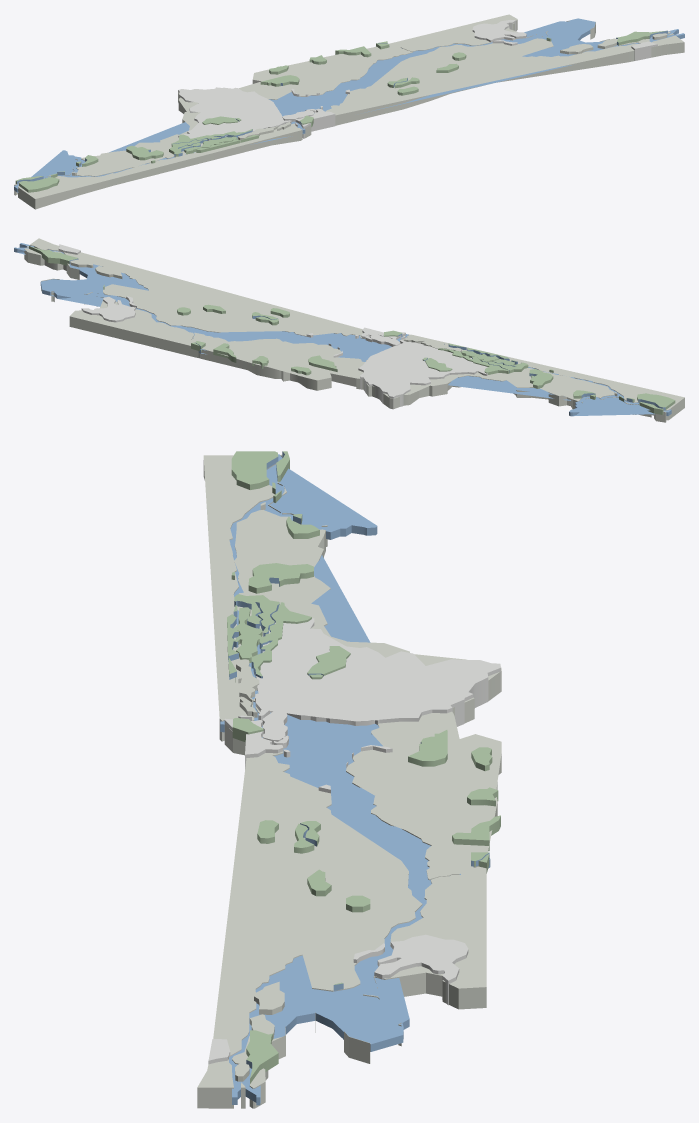
The model's file is lagos map.fbx.
3 renders of one model, top to bottom at view 1: azimuth 30°, elevation 25°; view 2: azimuth 150°, elevation 25°; view 3: azimuth 270°, elevation 25°, orthographic. The views are drawn at different scales.
Parts seen in each view (by area): view 1: mainMesh3, waterMesh2, forestgroup1_polySurface12, islandsgroup1_polySurface1; view 2: mainMesh3, waterMesh2, forestgroup1_polySurface12, islandsgroup1_polySurface1; view 3: mainMesh3, waterMesh2, forestgroup1_polySurface12, islandsgroup1_polySurface1.
Part boxes in pixels (<box>): mainMesh3: <box>14,14,684,209</box>; waterMesh2: <box>14,18,684,192</box>; forestgroup1_polySurface12: <box>15,30,667,192</box>; islandsgroup1_polySurface1: <box>72,33,667,175</box>; mainMesh3: <box>24,238,684,422</box>; waterMesh2: <box>14,243,671,416</box>; forestgroup1_polySurface12: <box>29,246,675,414</box>; islandsgroup1_polySurface1: <box>34,245,617,396</box>; mainMesh3: <box>197,454,501,1108</box>; waterMesh2: <box>220,454,490,1105</box>; forestgroup1_polySurface12: <box>227,451,500,1083</box>; islandsgroup1_polySurface1: <box>231,502,290,1081</box>.
Bounding box in the file's own units: 304 × 5.83 × 60.79.
